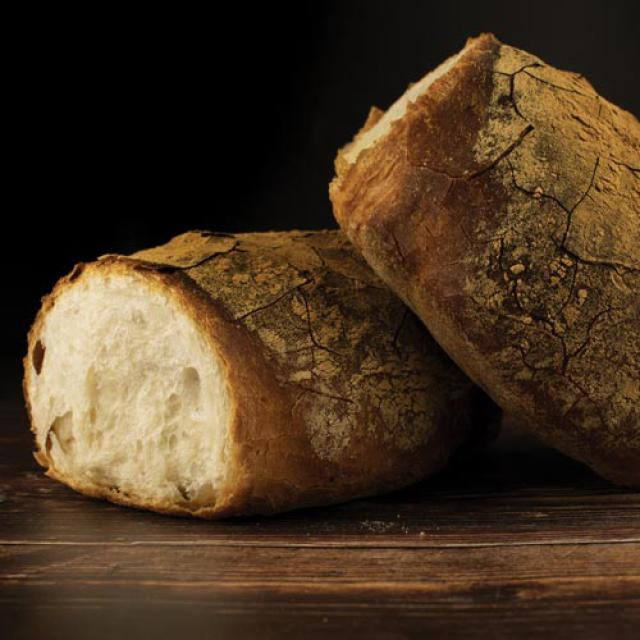Maltese-Bread: (330, 35, 639, 485), (24, 230, 479, 517)
